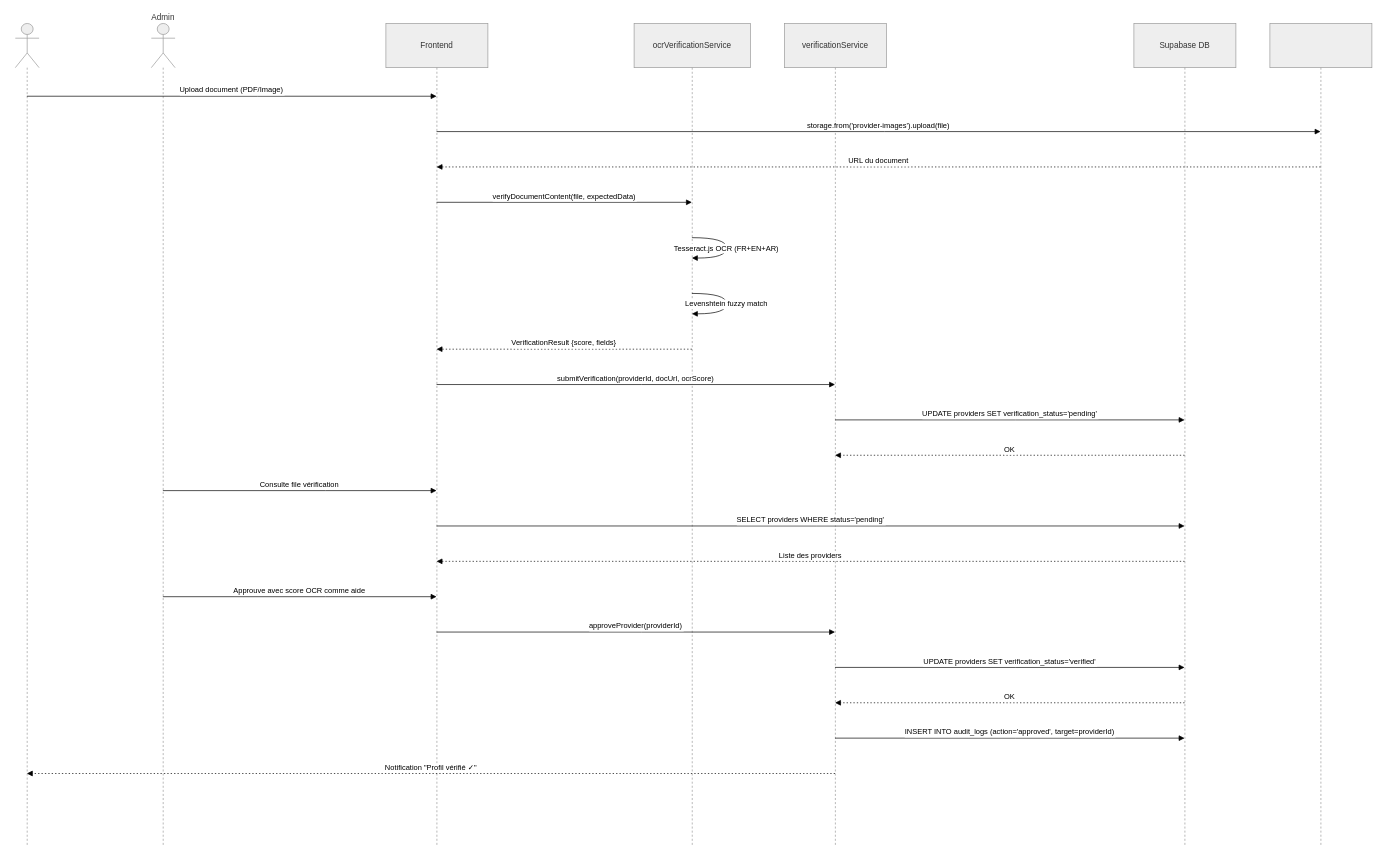
Image size: 1384x857. Some labels were removed from this diagram. Here are the shapes that lost their labels. From the top down, the box of each, then its label:
(15, 23, 39, 845): Provider
(1269, 23, 1372, 845): Supabase Storage
